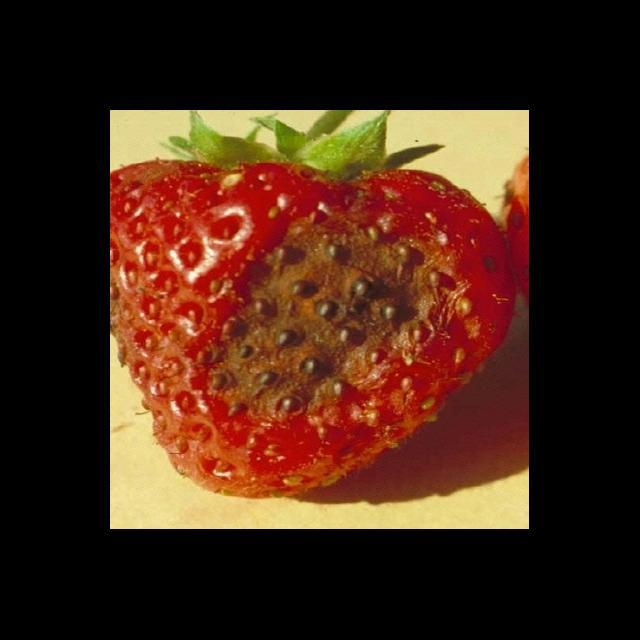Anthracnose Fruit Rot: (185, 188, 479, 428)
